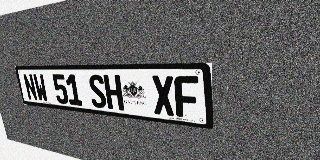1: (64, 74, 83, 106)
5: (52, 74, 69, 104)
F: (174, 76, 200, 119)
H: (103, 75, 124, 111)
N: (22, 74, 38, 101)
S: (87, 75, 107, 109)
W: (32, 74, 49, 102)
X: (151, 75, 176, 116)
